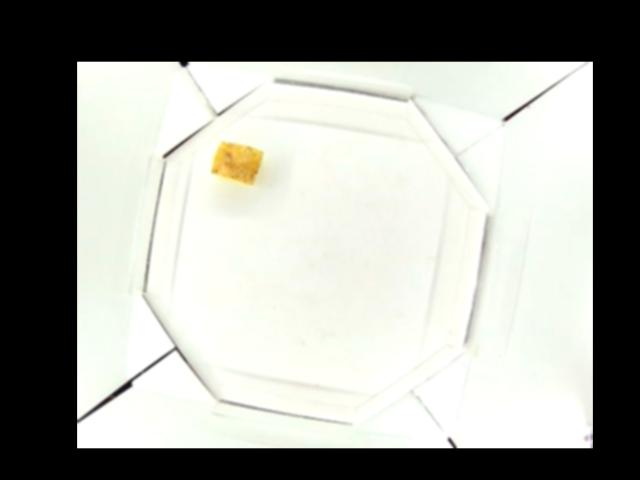Potato: (210, 138, 264, 184)
